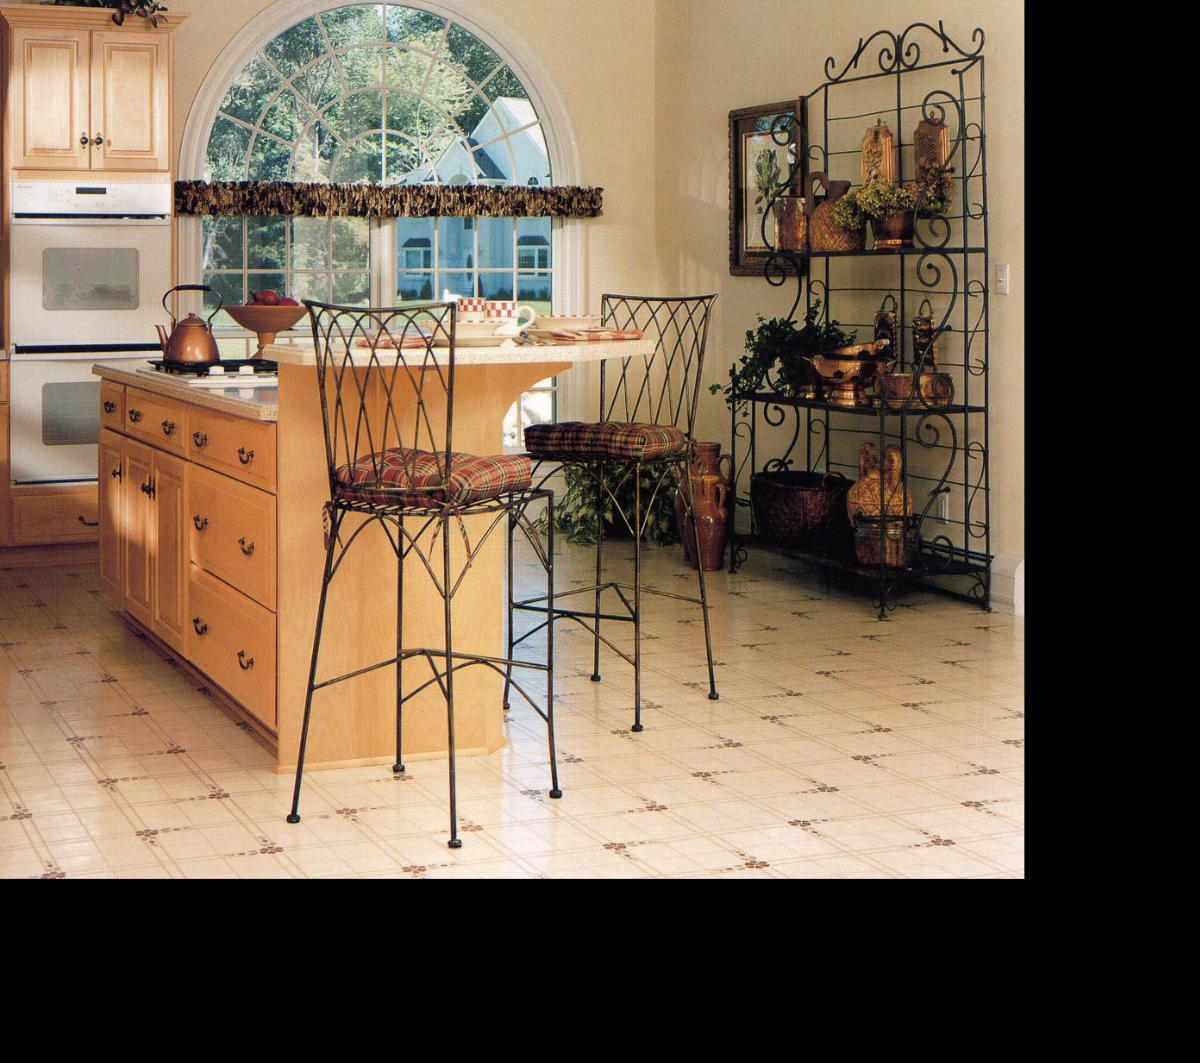Electrodomestico: (14, 191, 164, 480)
Matera: (563, 446, 679, 556)
